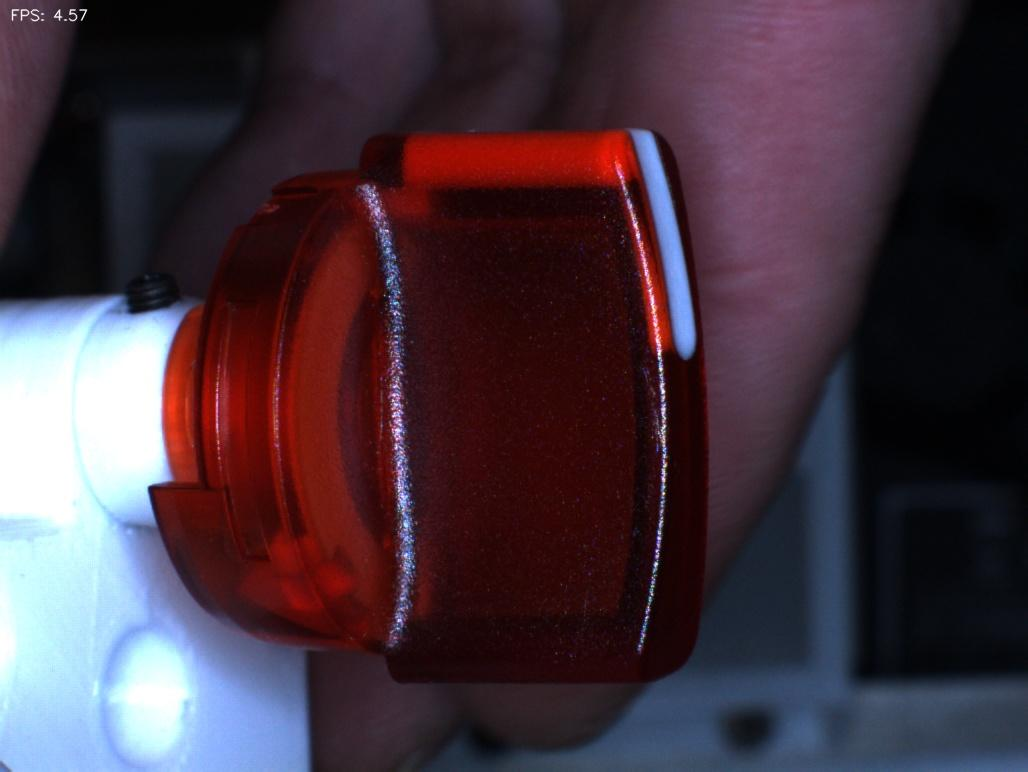Givrage: (605, 338, 690, 486)
